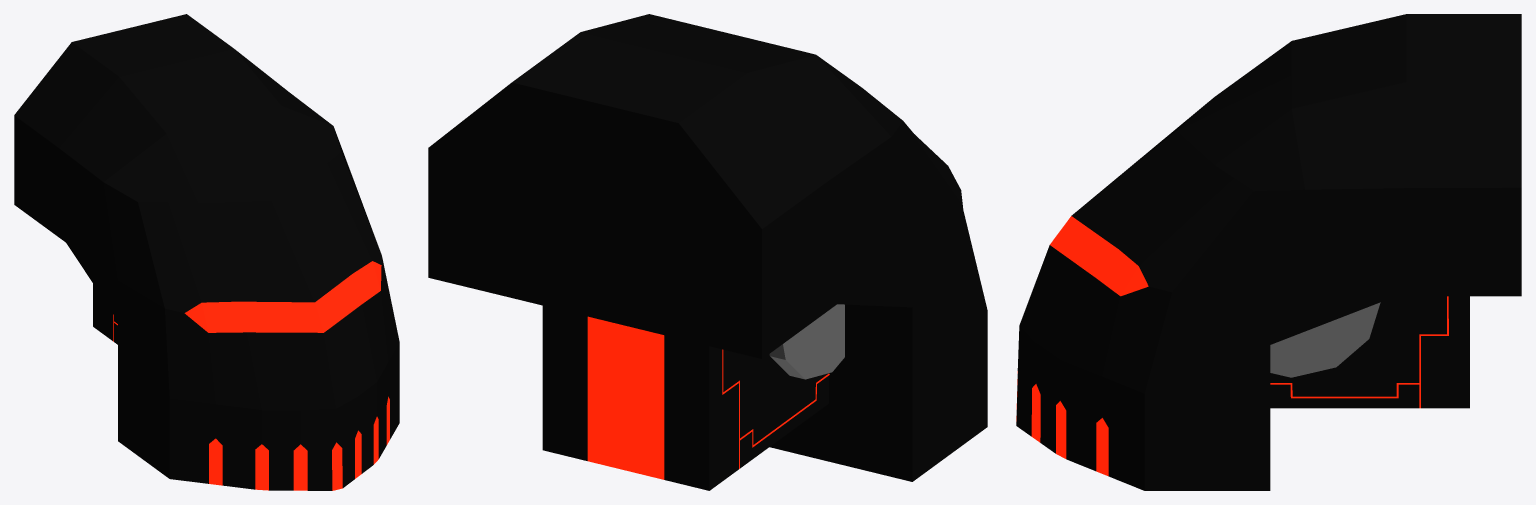
The model's file is Seeker.fbx.
3 views of the same model, side by side, from view 1: azimuth 30°, elevation 25°; view 2: azimuth 150°, elevation 25°; view 3: azimuth 270°, elevation 25° (orthographic). The views are drawn at different scales.
Visible parts, largest first — view 1: Cube; view 2: Cube; view 3: Cube.
Part boxes in pixels (box(x1,y1,x2,y2)): Cube: box(14, 14, 399, 490); Cube: box(428, 14, 987, 490); Cube: box(1016, 14, 1521, 490).
Size of the model in its own units: 200 by 257 by 314.
